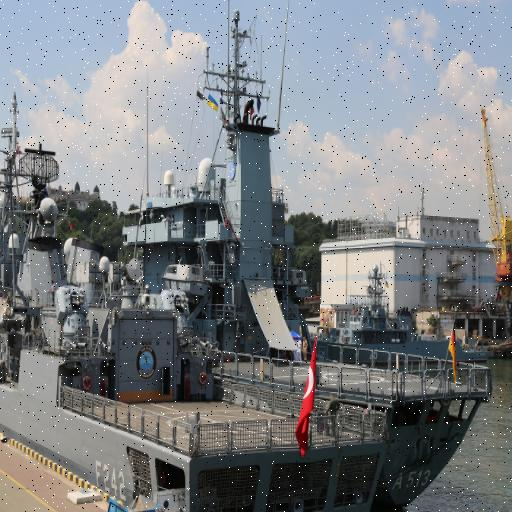Fragata: (1, 89, 392, 512)
